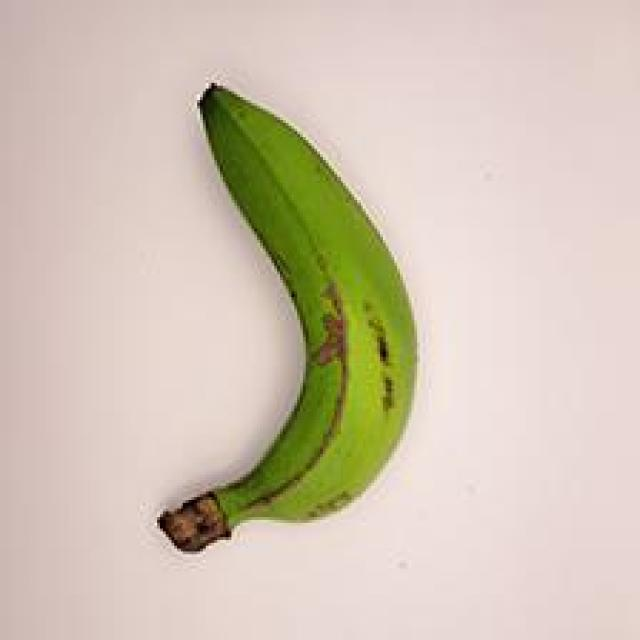Raw: (127, 51, 445, 588)
